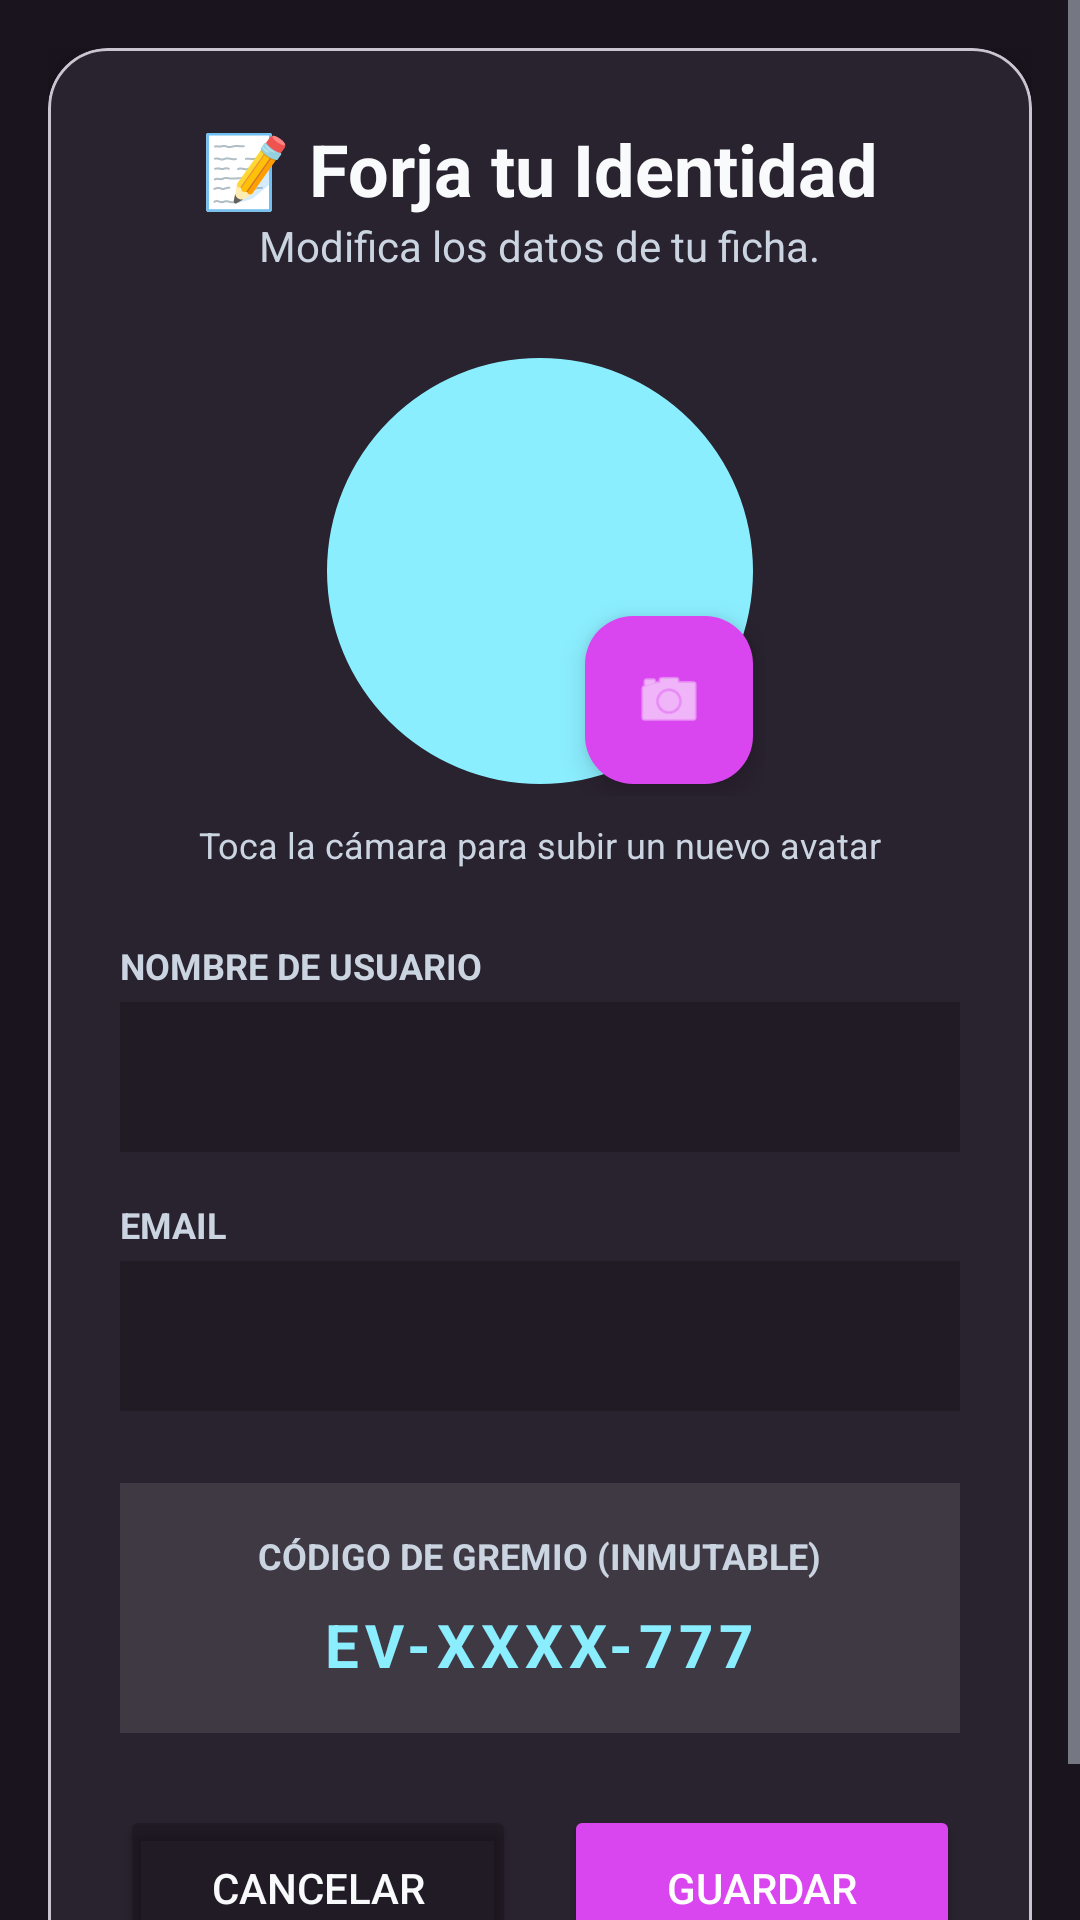

Icons on this 1080 x 1920 Android screen, each with the point to tap as [x,y]:
camera: [669,700]
